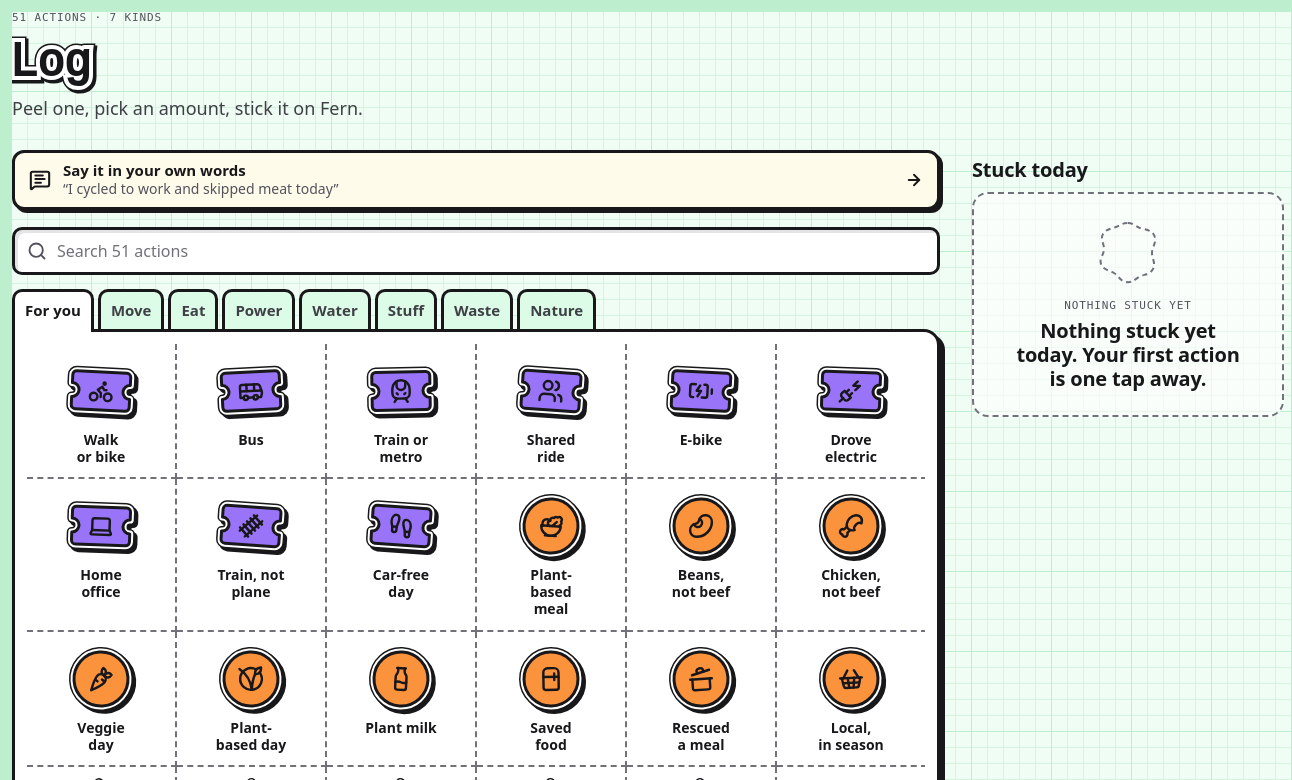
browsing › leaves the search when a kind is picked
This screenshot has width=1292, height=780.
Type "bus" into the search field named "Search actions" at [492, 251], box [47,230,937,272]
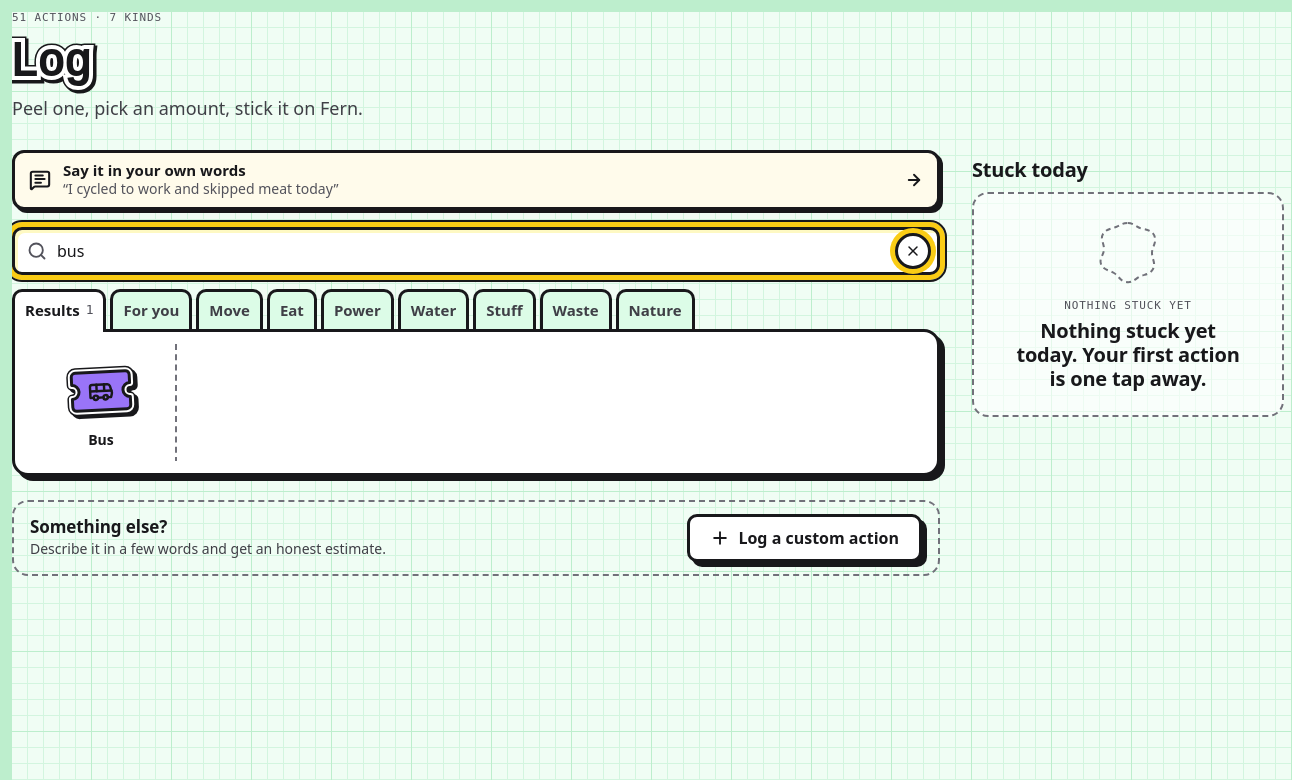
Click the tab "Eat" at [292, 309], box [267,289,317,329]
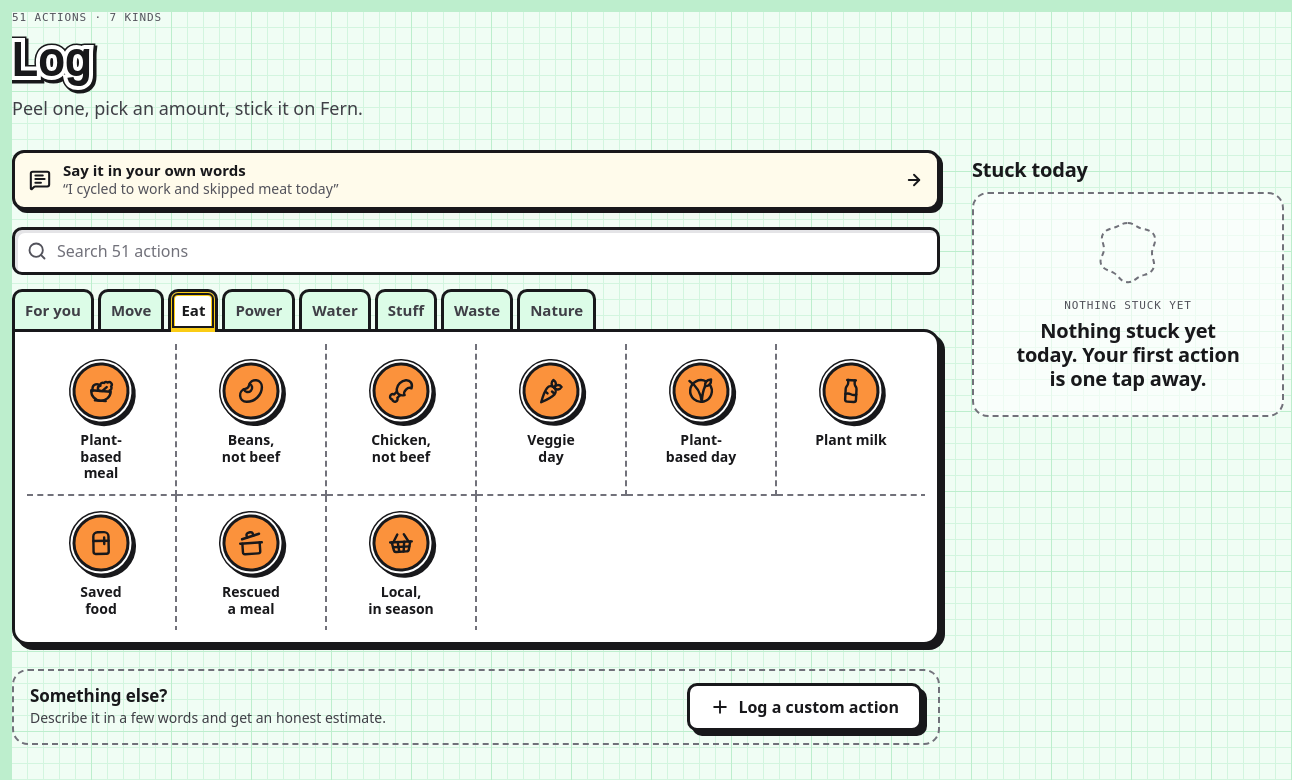
Check: the search field named "Search actions" is empty, box [47,230,937,272]
Check: the tab "Results" is gone
Check: the button with aria-label "Plant-based meal:" is shown, box [64,358,138,482]
